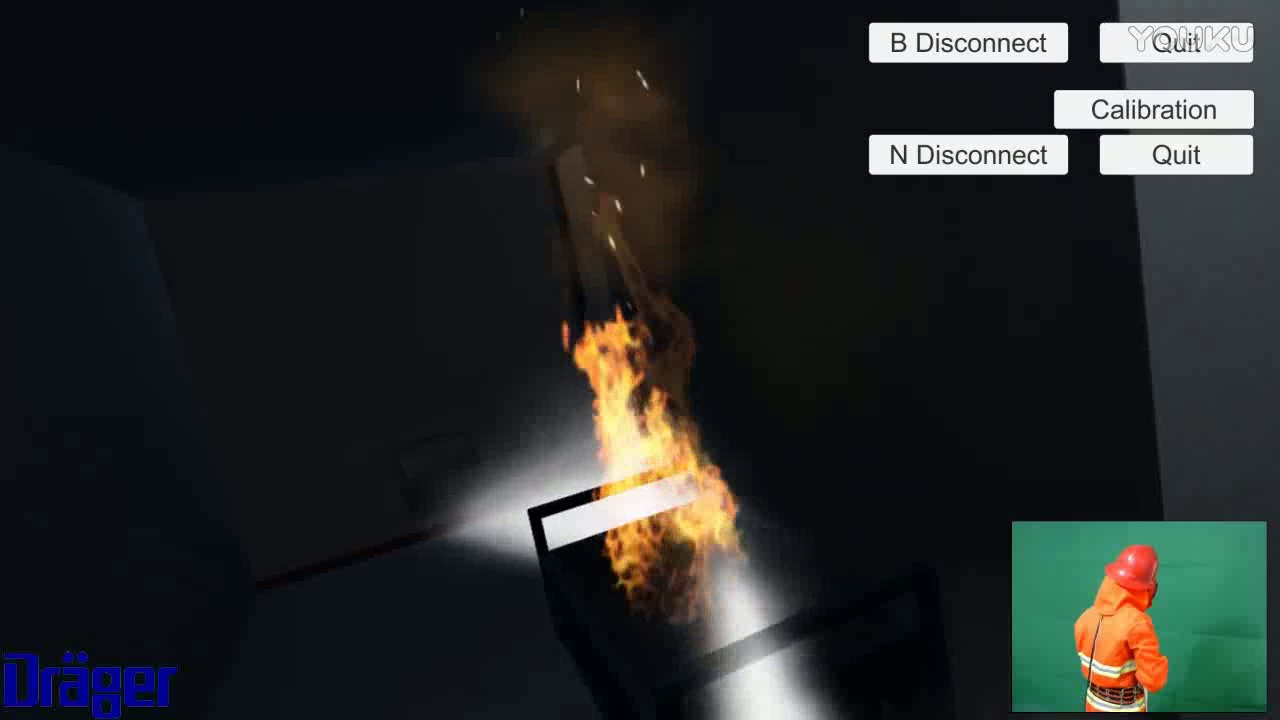fire: (555, 312, 750, 640)
